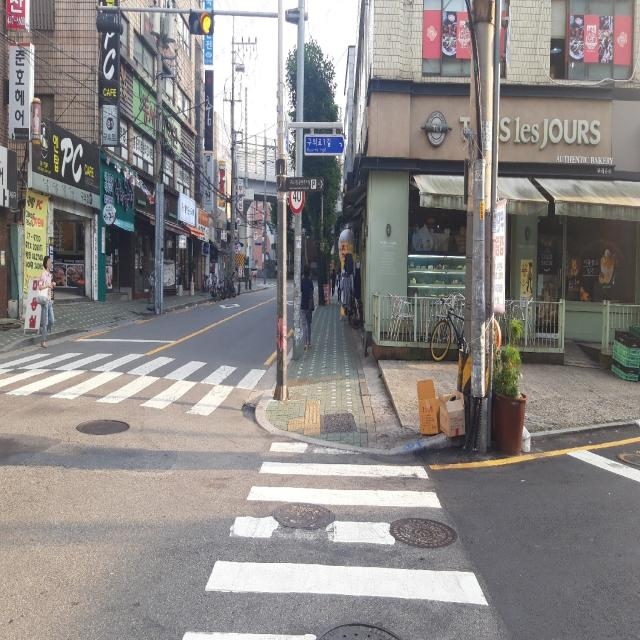횡단보도: (183, 443, 490, 639), (5, 346, 253, 416)
